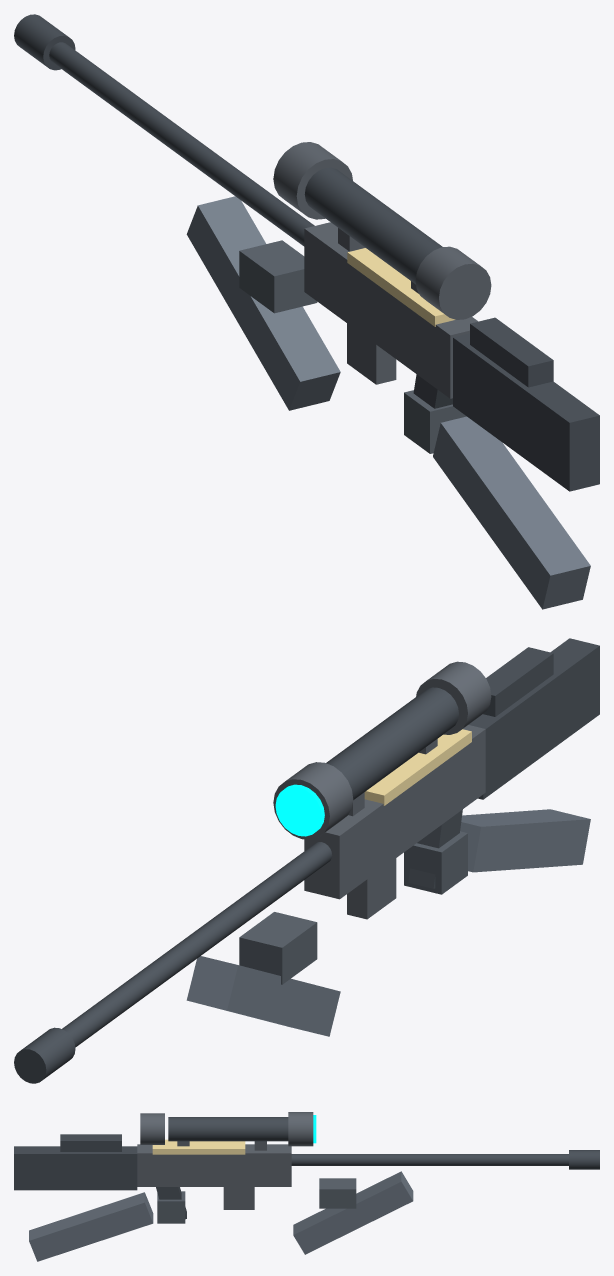
The model's file is operator.glb.
3 views of the same model, one above another, from view 1: azimuth 30°, elevation 25°; view 2: azimuth 150°, elevation 25°; view 3: azimuth 270°, elevation 25° (orthographic). The views are drawn at different scales.
Parts seen in each view (by area): view 1: operator; view 2: operator; view 3: operator.
Boxes of the visible parts, x1=… form: operator: x1=14, y1=14, x2=599, y2=609; operator: x1=14, y1=638, x2=599, y2=1083; operator: x1=14, y1=1112, x2=599, y2=1261.
Bounding box in the file's own units: 0.112 × 0.5122 × 1.9.
